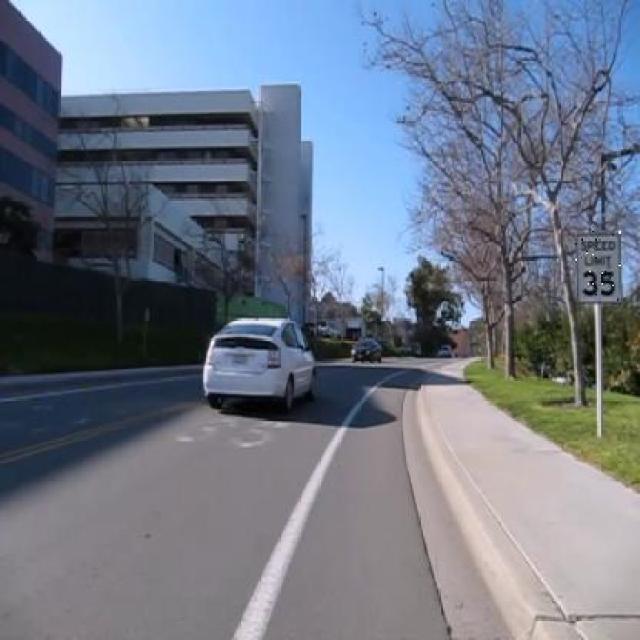speedLimit35: (575, 231, 622, 304)
